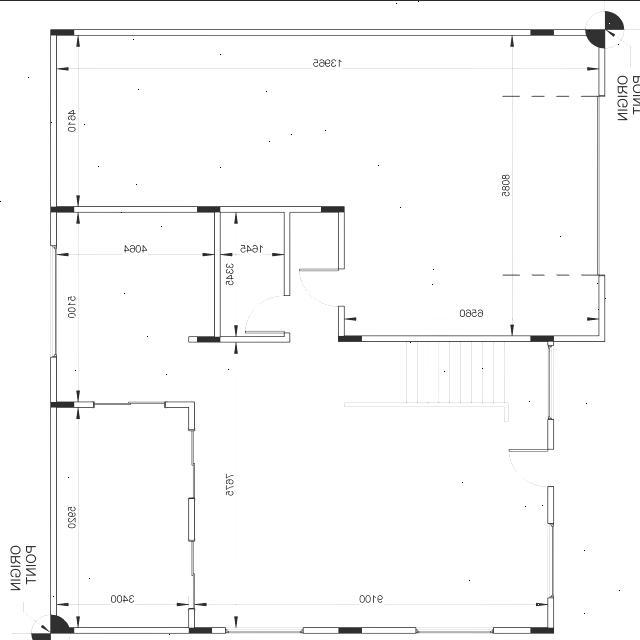Column: (530, 626, 554, 633), (338, 626, 362, 633), (188, 626, 212, 633), (50, 626, 74, 633), (530, 28, 554, 34), (50, 28, 74, 34), (50, 206, 74, 212), (197, 206, 221, 212), (321, 206, 345, 212), (338, 334, 362, 340), (530, 334, 554, 340), (197, 336, 220, 342), (585, 28, 605, 34), (50, 401, 74, 406), (598, 35, 606, 47), (50, 614, 57, 626)
Door: (299, 268, 345, 306), (244, 294, 290, 332), (508, 448, 554, 486)
Sliding Door: (597, 94, 605, 276), (91, 400, 168, 408), (188, 428, 195, 500), (188, 538, 195, 610)
Staircase: (344, 341, 508, 402)
Window: (50, 245, 57, 356), (416, 626, 494, 633), (226, 626, 304, 633), (548, 341, 554, 419), (548, 522, 554, 598)
